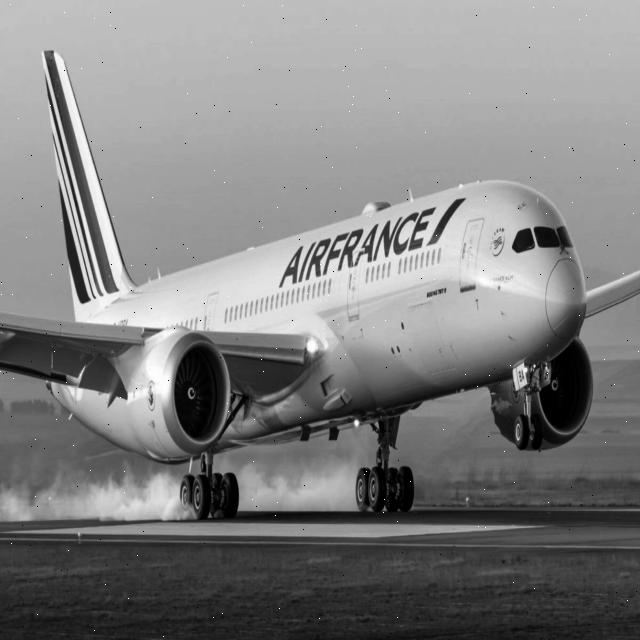aircraft: (0, 26, 640, 604)
